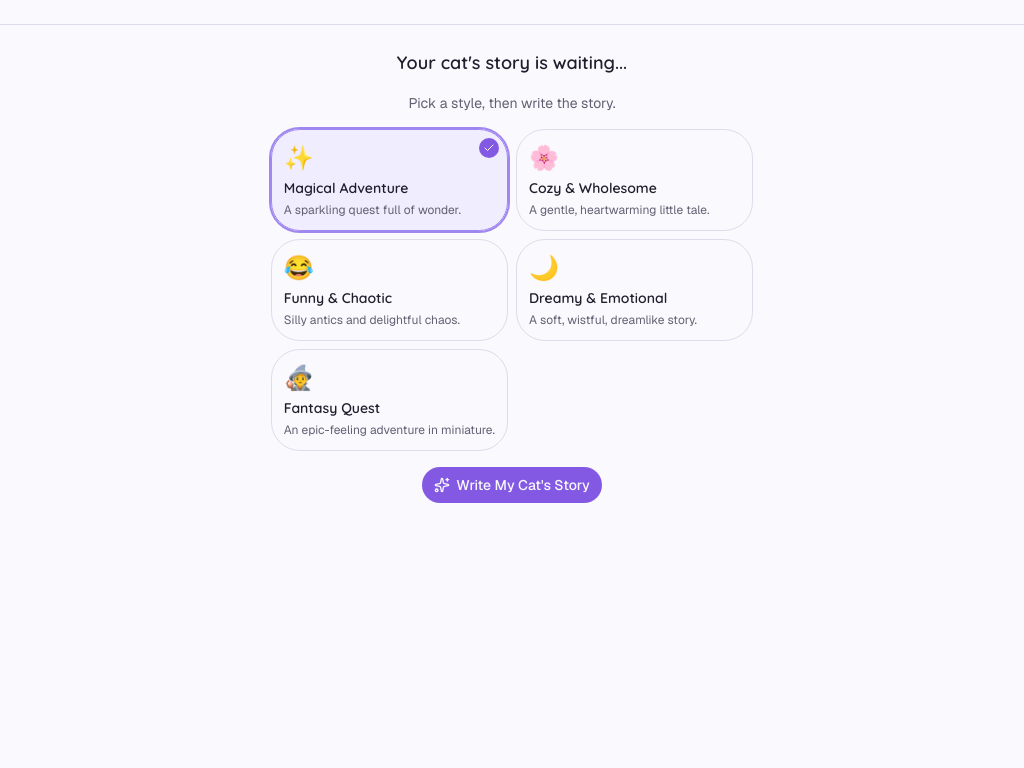
StorySection › shows an error message and lets the user retry when generation fails
Click the button "Write My Cat's Story" at (512, 485), box left=422, top=467, right=602, bottom=503
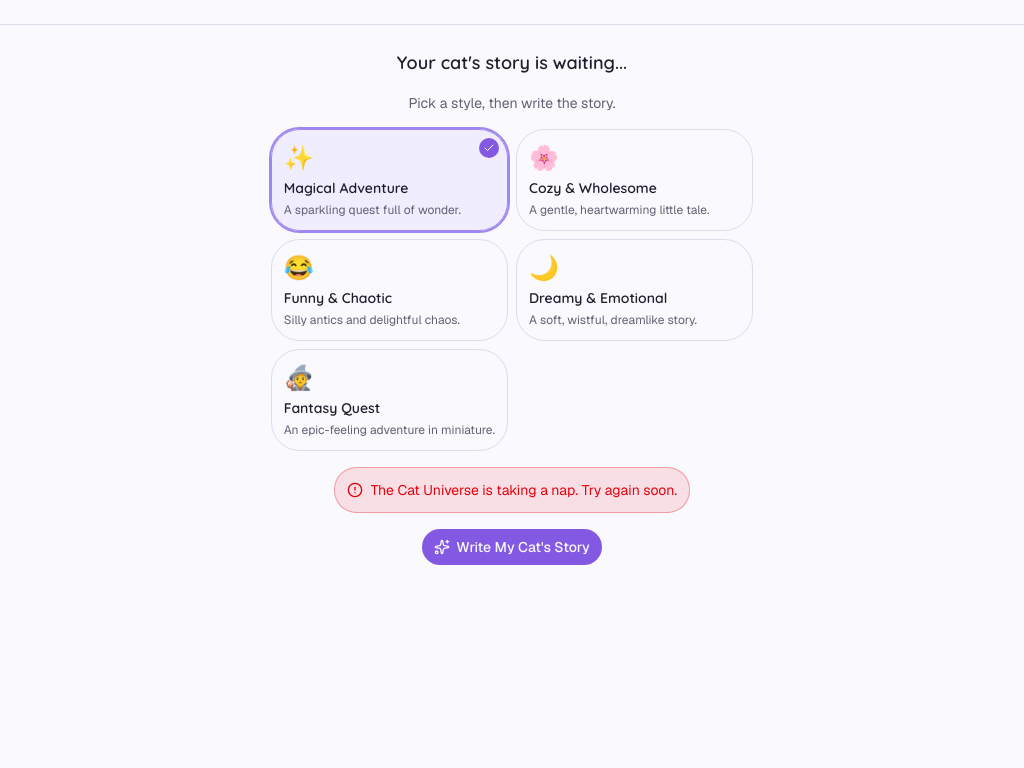
Expected: the button "Write My Cat's Story" is shown, left=422, top=529, right=602, bottom=565
Result: the message shows "taking a nap" at left=371, top=481, right=677, bottom=499
